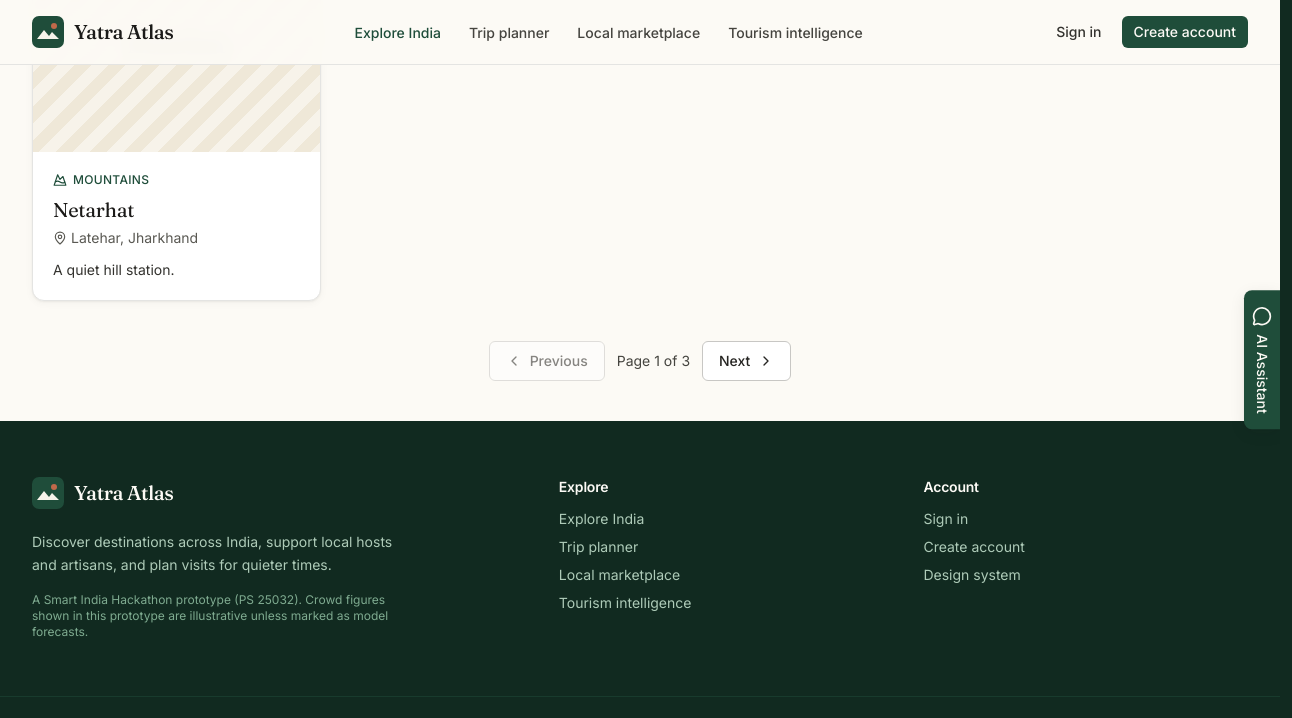
Scenario: Explore page › paginates through the URL
(page scrolled)
Expected: the text "Page 1 of 3" is shown, [617, 351, 690, 371]
Expected: the button "Previous" is disabled, [489, 341, 605, 381]
What coordinates should you click on to do the following:
click the button "Next"
I would click on:
 (747, 361)
Its box is [702, 341, 791, 381].
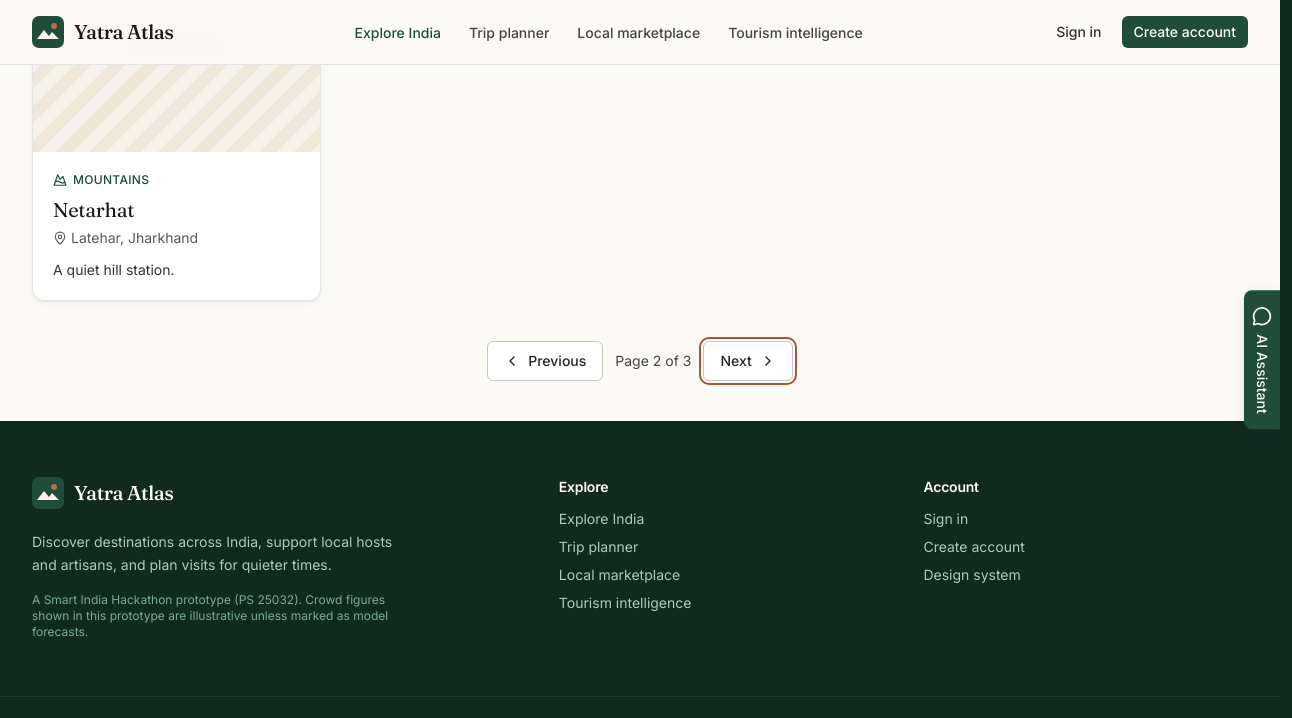
Expected: the text "Page 2 of 3" is shown, [615, 351, 692, 371]
